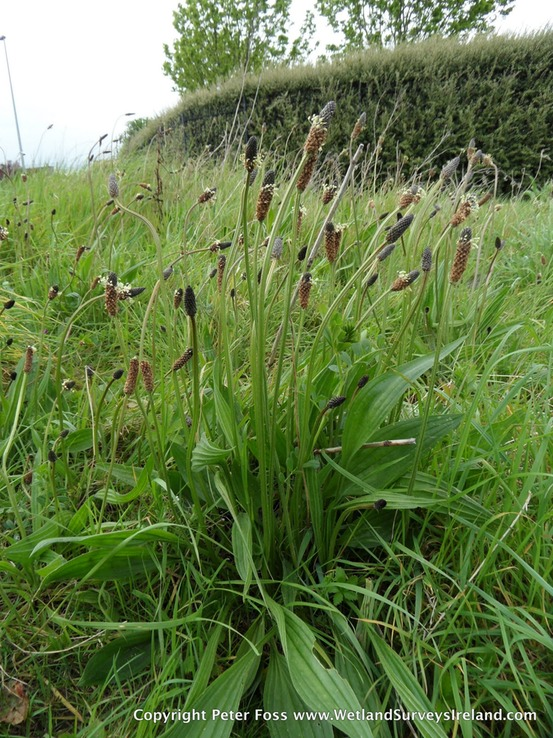buckhorn plantain: (73, 99, 480, 619)
